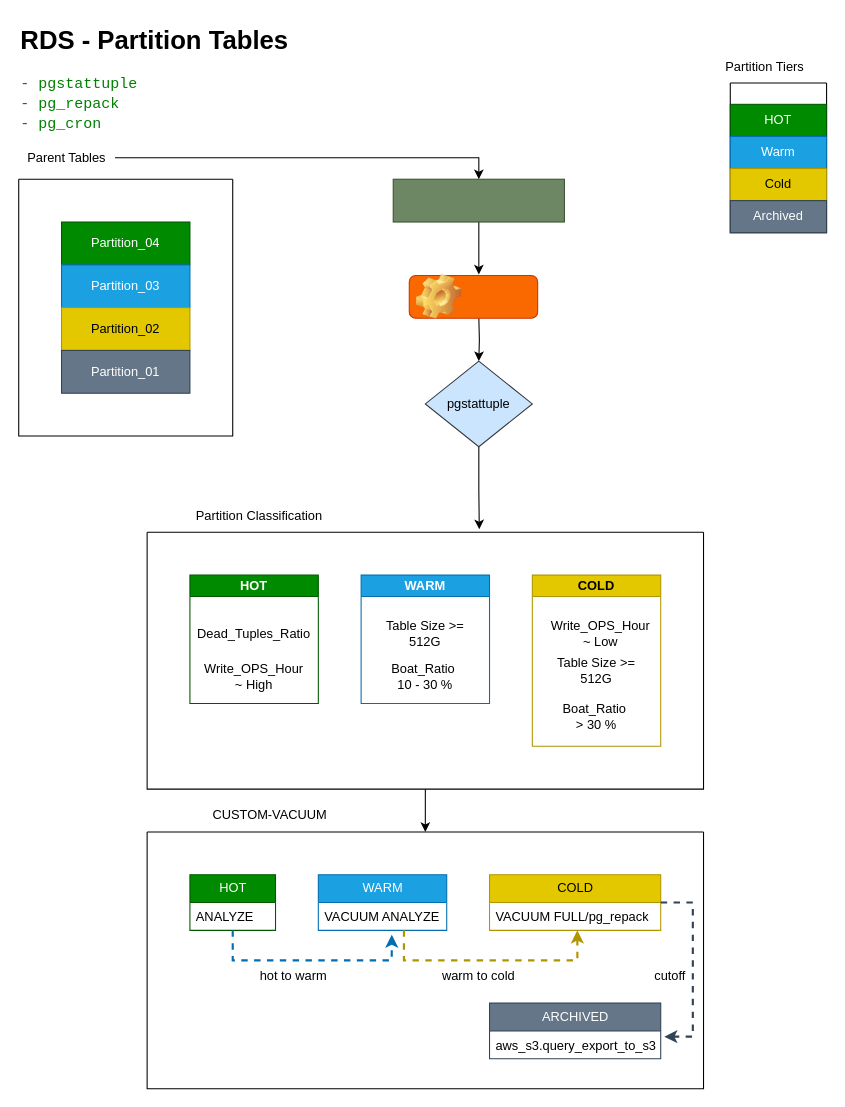
Image size: 845x1107. Some labels were removed from this diagram. The shapes that lost their labels are listed below. From the top down, each one's centre as x and y in pixels, then its label:
point (478, 200): Disable AUTOVACUUM
point (473, 296): pg_cron
